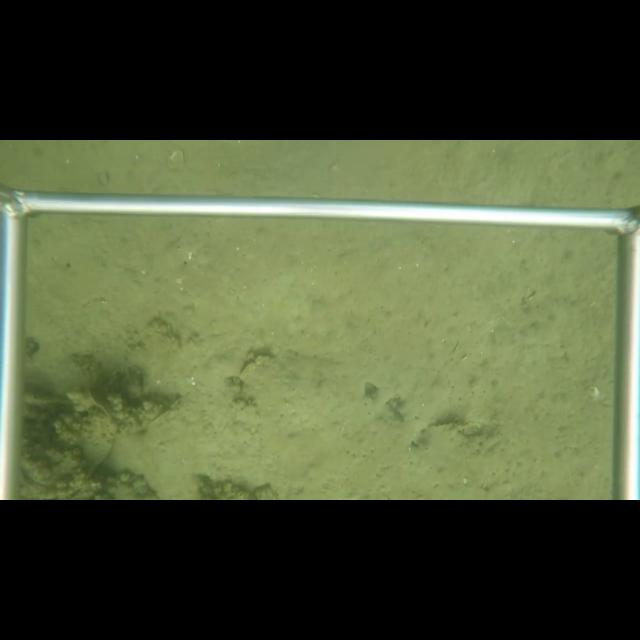Oyster-Closed: (237, 348, 298, 392), (411, 418, 475, 451)
